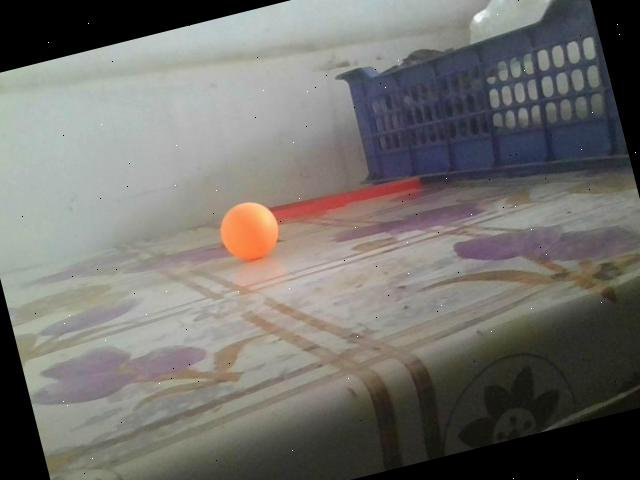ball: (215, 198, 282, 265)
